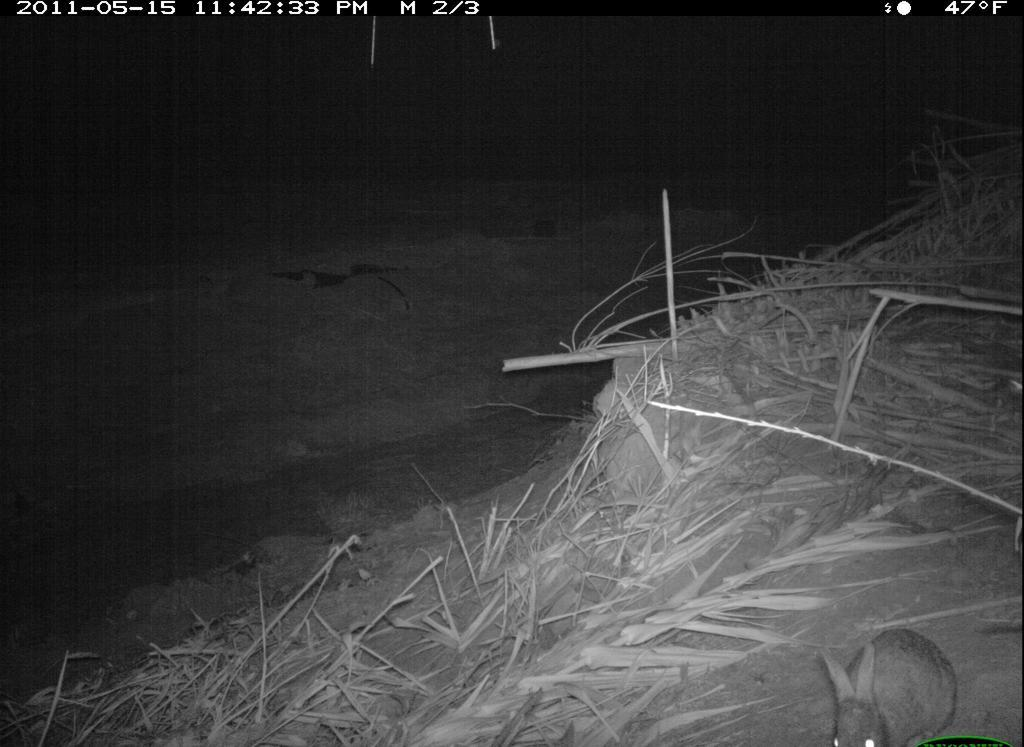rabbit: (807, 619, 963, 747)
